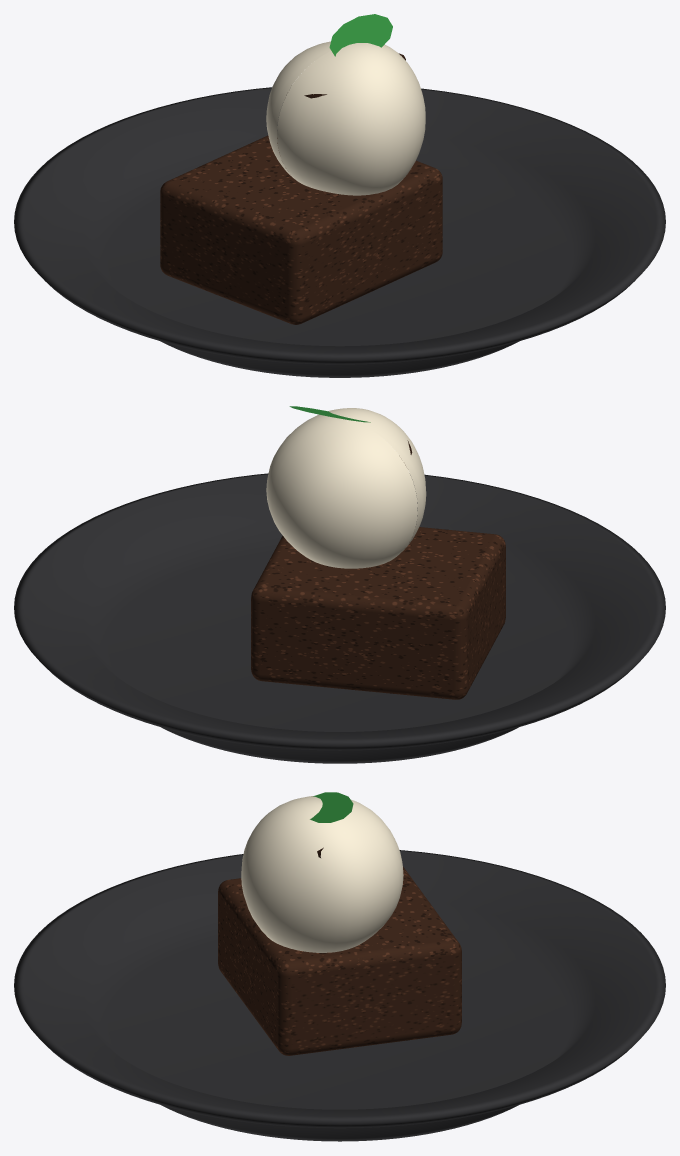
Rendered from brownie.glb.
The picture shows the model from 3 angles, top to bottom: view 1: azimuth 30°, elevation 25°; view 2: azimuth 150°, elevation 25°; view 3: azimuth 270°, elevation 25°; orthographic projection.
Size of the model in its own units: 0.22 by 0.0943 by 0.22.
Materials: 5 (1 with a texture image).
